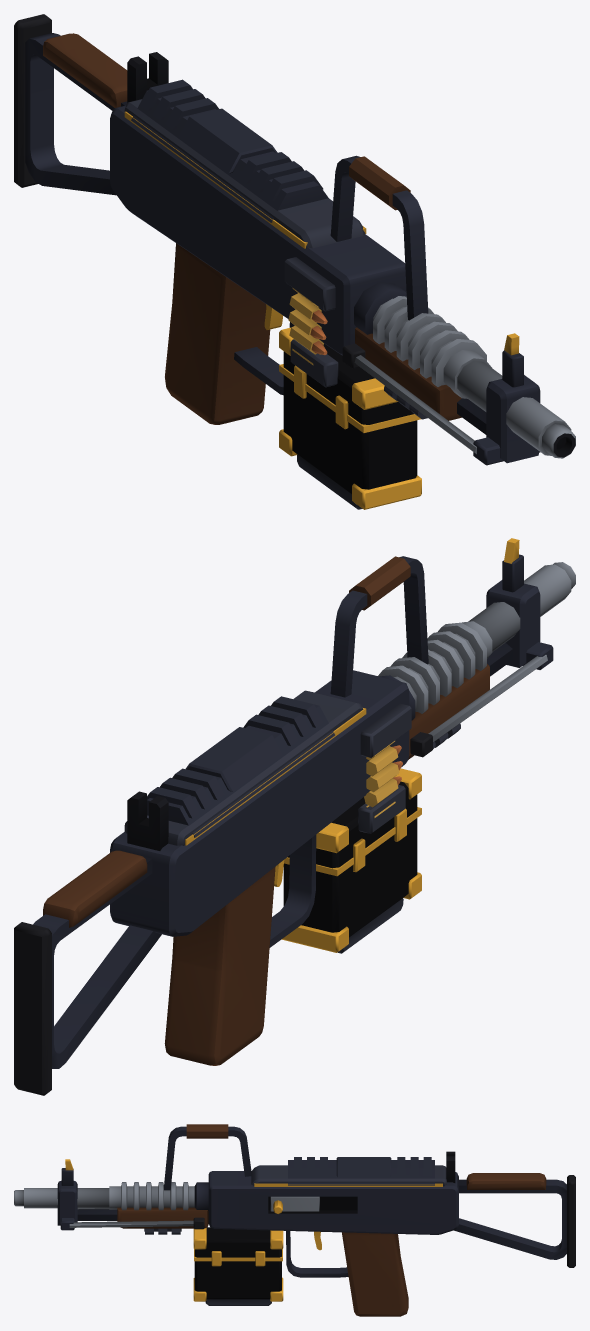
File: hostile_takeover.glb
3 renders of one model, top to bottom at view 1: azimuth 30°, elevation 25°; view 2: azimuth 150°, elevation 25°; view 3: azimuth 270°, elevation 25°, orthographic. The views are drawn at different scales.
Parts seen in each view (by area): view 1: frame, box_mag, bipod; view 2: frame, box_mag, bipod; view 3: frame, box_mag, bipod, bolt.
Part boxes in pixels (bbox=[...]): frame: bbox=[14, 14, 575, 463]; box_mag: bbox=[279, 288, 421, 509]; bipod: bbox=[342, 343, 540, 465]; frame: bbox=[14, 538, 575, 1095]; box_mag: bbox=[281, 741, 421, 953]; bipod: bbox=[410, 642, 553, 757]; frame: bbox=[14, 1124, 575, 1316]; box_mag: bbox=[193, 1227, 283, 1305]; bipod: bbox=[60, 1208, 204, 1230]; bolt: bbox=[270, 1196, 319, 1213].
Size of the model in its own units: 0.3012 by 1.03 by 2.83.
1 material, 1 textured.
